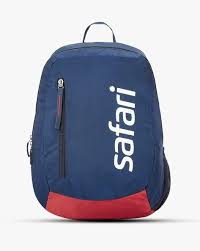backpack: (26, 21, 171, 220)
